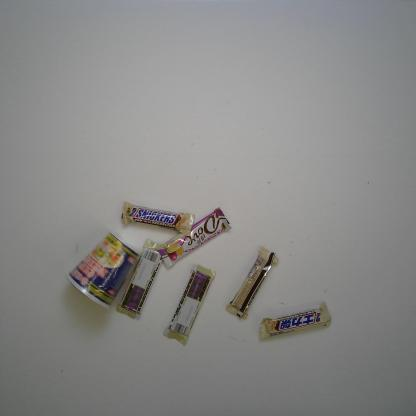Chocolate: (156, 206, 233, 270), (161, 263, 217, 347), (224, 244, 280, 322), (116, 237, 166, 321), (257, 300, 334, 343), (119, 201, 195, 236)
Instant Noodles: (63, 231, 142, 309)
